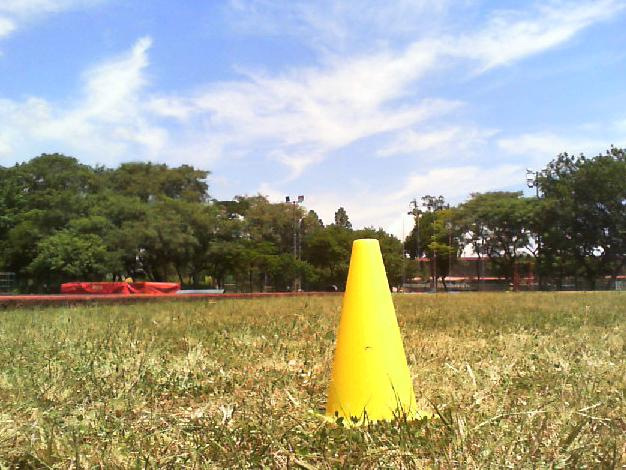0 cone: (306, 239, 439, 428)
